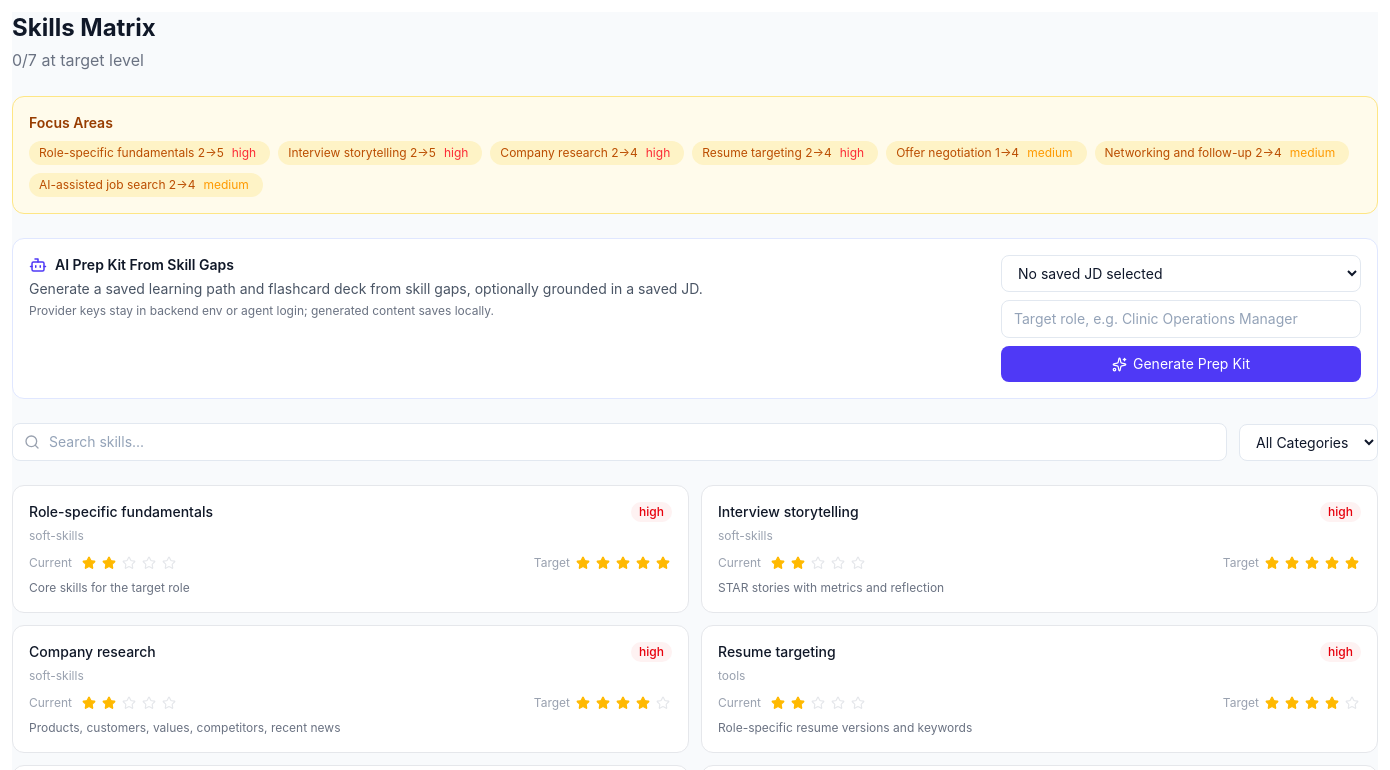
Scenario: Skills AI prep kit › grounds AI prep generation in a selected saved JD
The width and height of the screenshot is (1390, 770).
Select "Clinic Operations Manager at North Clinic" in the dropdown showing "No saved JD selected" in the row of "AI Prep Kit From Skill Gaps" at (1181, 274), box [1001, 255, 1361, 292]
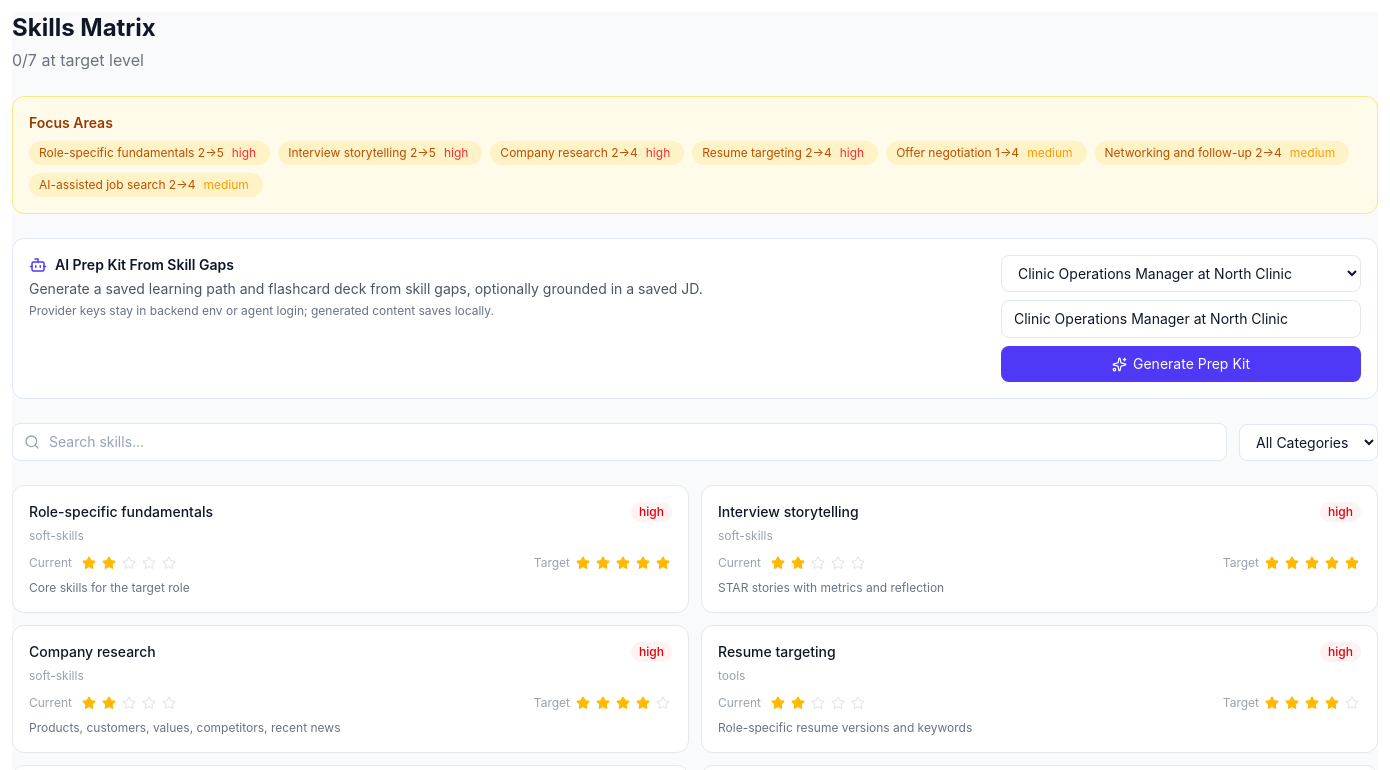
Click the button "Generate Prep Kit" at (1181, 364), box [1001, 346, 1361, 382]
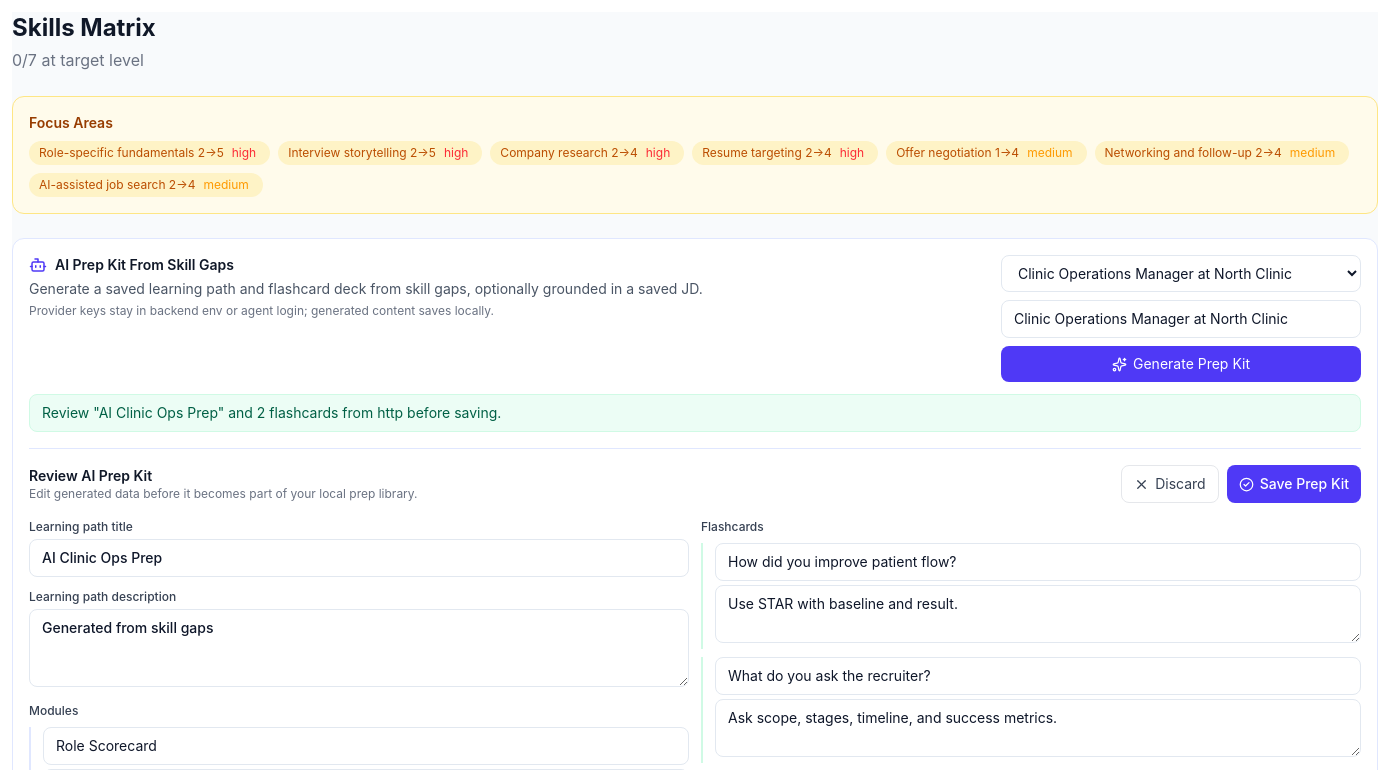
Click the button "Save Prep Kit" at (1294, 484), box [1227, 465, 1361, 503]
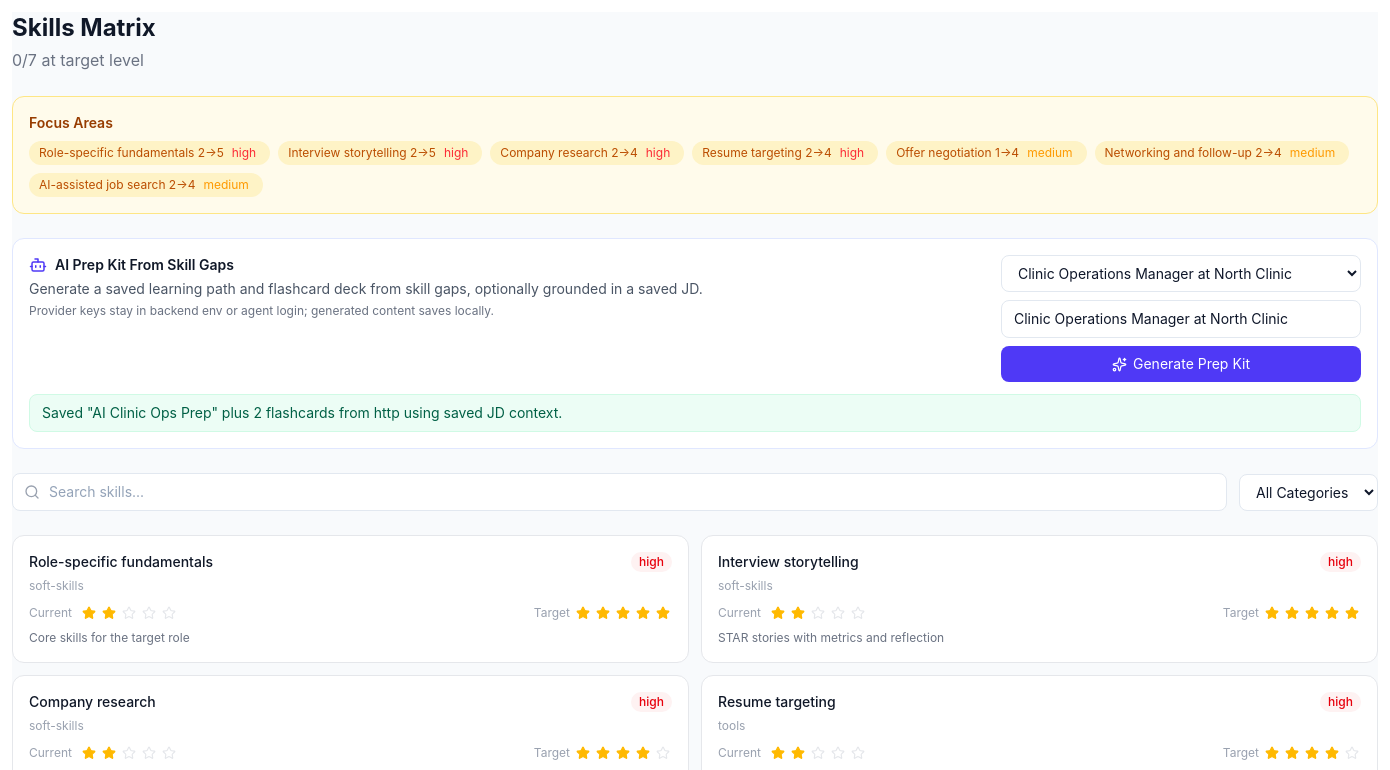
Result: the text "using saved JD context" is shown at [42, 404, 562, 421]
